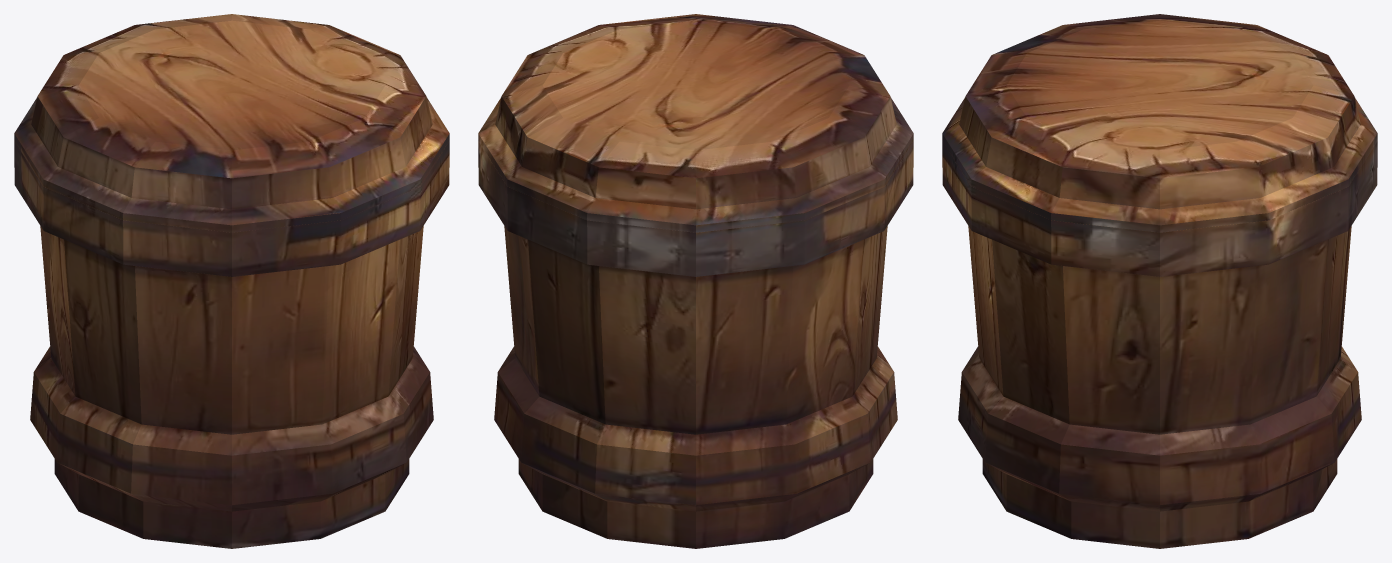
Rendered from barrel_breakable.glb.
The picture shows the model from 3 angles, left to right: view 1: azimuth 30°, elevation 25°; view 2: azimuth 150°, elevation 25°; view 3: azimuth 270°, elevation 25°; orthographic projection.
Visible parts, largest first — view 1: 0Barrel, 0Barrel_Breakable.001; view 2: 0Barrel, 0Barrel_Breakable.001; view 3: 0Barrel, 0Barrel_Breakable.001.
Boxes of the visible parts, x1,y1,x2,y2 form: 0Barrel: (14,141,449,548); 0Barrel_Breakable.001: (14,14,449,232); 0Barrel: (478,141,913,548); 0Barrel_Breakable.001: (478,14,913,232); 0Barrel: (942,141,1377,548); 0Barrel_Breakable.001: (942,14,1377,232).
Size of the model in its own units: 2.46 by 2.42 by 2.46.
Materials: 2 (2 with a texture image).
